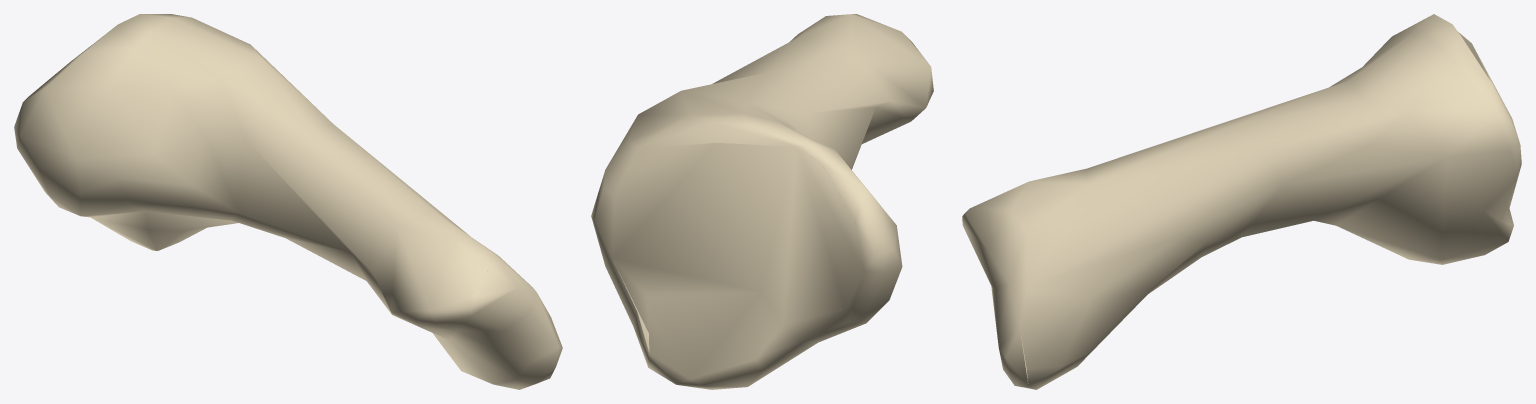
File: esqueleto-proximal-phalanx-of-fourth-finger-of-foot-l.glb
The picture shows the model from 3 angles, left to right: view 1: azimuth 30°, elevation 25°; view 2: azimuth 150°, elevation 25°; view 3: azimuth 270°, elevation 25°; orthographic projection. The views are drawn at different scales.
Parts seen in each view (by area): view 1: Proximal phalanx of fourth finger of foot.l; view 2: Proximal phalanx of fourth finger of foot.l; view 3: Proximal phalanx of fourth finger of foot.l.
Boxes of the visible parts, bbox=[...] form: Proximal phalanx of fourth finger of foot.l: bbox=[14, 14, 562, 389]; Proximal phalanx of fourth finger of foot.l: bbox=[591, 14, 933, 389]; Proximal phalanx of fourth finger of foot.l: bbox=[962, 14, 1521, 389].
Size of the model in its own units: 0.0181 by 0.0137 by 0.026.
